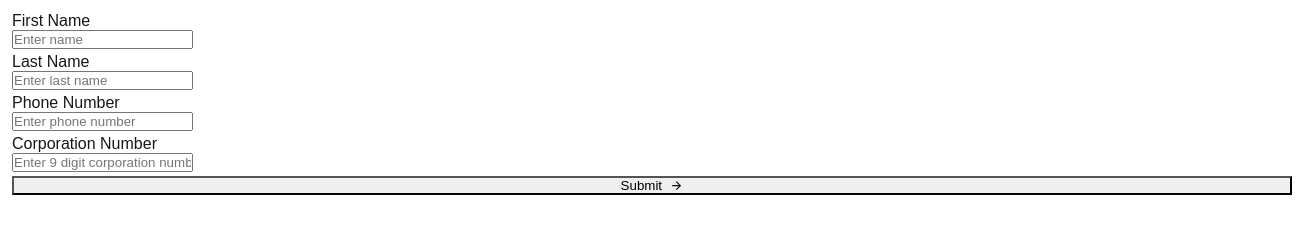
Scenario: UserStepForm › should validate the form and show error if last name is too short
Type "John" into the field with test id "firstName". click: (102, 40)
box: [12, 30, 193, 49]
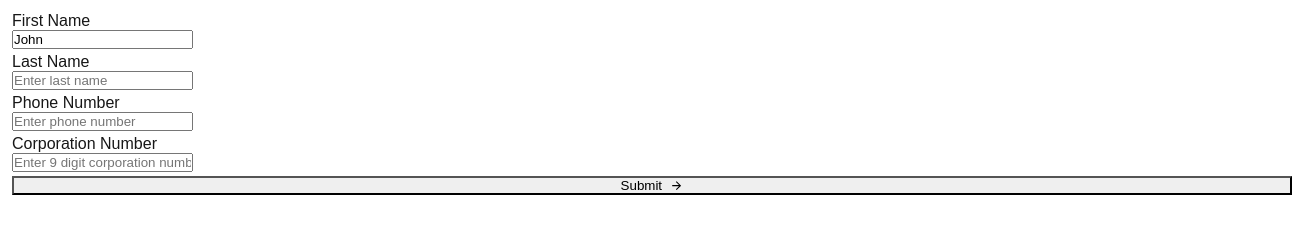
Type "D" into the field with test id "lastName". click: (102, 80)
box: [12, 71, 193, 90]
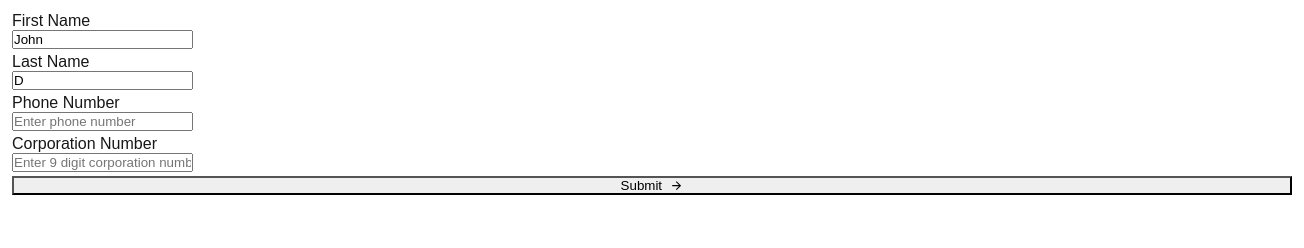
Type "+1234567890" into the field with test id "phone". click: (102, 122)
box: [12, 112, 193, 131]
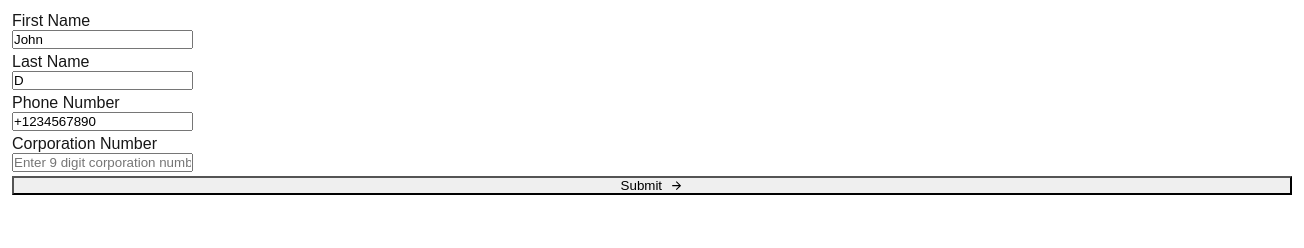
Type "123456789" into the field with test id "corporationNumber". click: (102, 162)
box: [12, 153, 193, 172]
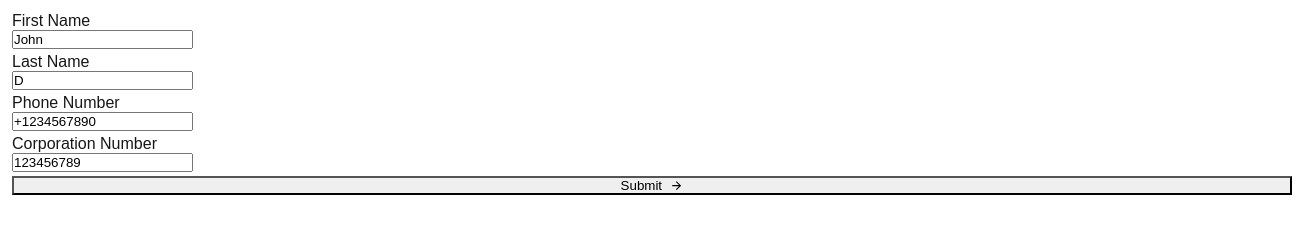
Click the button "Submit". click: (652, 186)
box: [12, 176, 1292, 195]
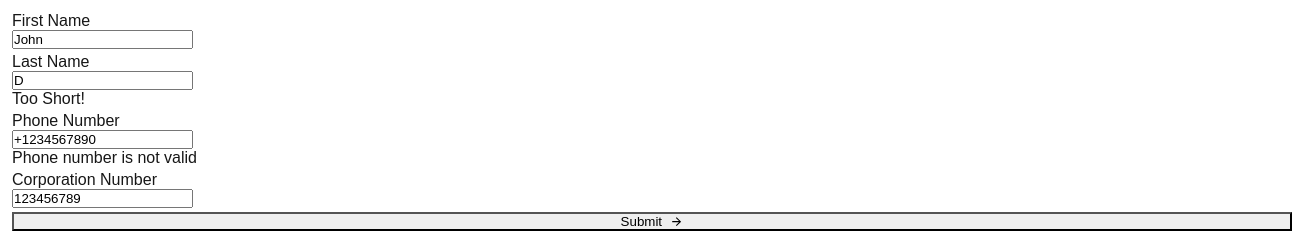
Expected: the text with test id "lastNameError" reads "Too Short!", [12, 90, 85, 107]
